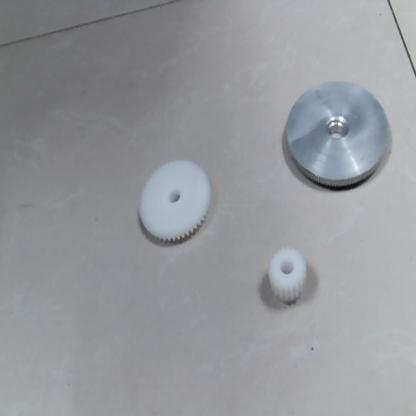FOD: (276, 79, 401, 192), (131, 160, 223, 249), (256, 243, 316, 316)
